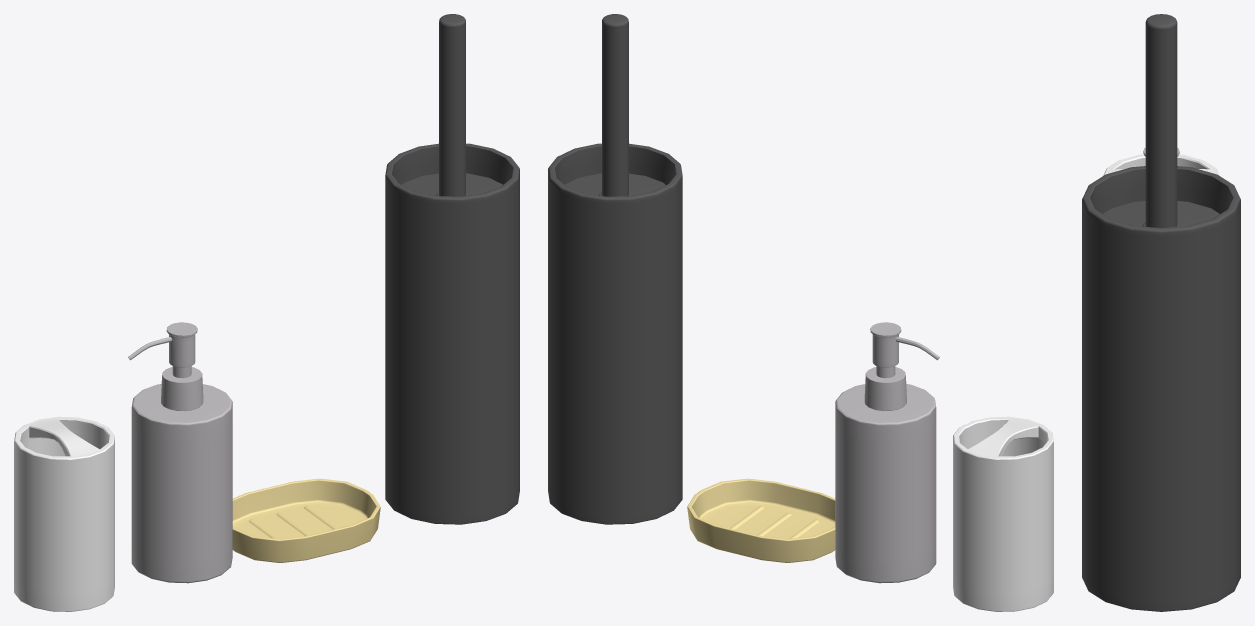
File: BasicBathroomAccessories.fbx
3 views of the same model, side by side, from view 1: azimuth 30°, elevation 25°; view 2: azimuth 150°, elevation 25°; view 3: azimuth 270°, elevation 25° (orthographic). The views are drawn at different scales.
Visible parts, largest first — view 1: node_id6 (×2), node_id4 (×2), node_id5, root; view 2: node_id6 (×2), node_id4 (×2), node_id5, root; view 3: node_id6 (×2), node_id5.
Boxes of the visible parts, x1=… form: node_id6 (×2): x1=385, y1=14, x2=519, y2=524; node_id4 (×2): x1=128, y1=322, x2=232, y2=583; node_id5: x1=14, y1=416, x2=114, y2=611; root: x1=232, y1=478, x2=380, y2=562; node_id6 (×2): x1=548, y1=14, x2=682, y2=524; node_id4 (×2): x1=835, y1=322, x2=939, y2=583; node_id5: x1=953, y1=416, x2=1053, y2=611; root: x1=687, y1=478, x2=835, y2=562; node_id6 (×2): x1=1082, y1=14, x2=1240, y2=611; node_id5: x1=1103, y1=154, x2=1219, y2=175.
Size of the model in its own units: 0.512 by 0.4768 by 0.1226.
6 materials, 6 textured.
